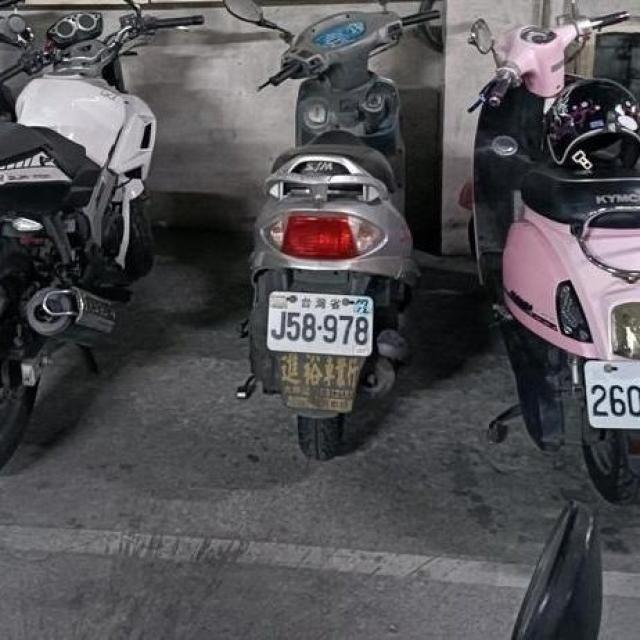W: (263, 285, 378, 359), (576, 349, 640, 436)
